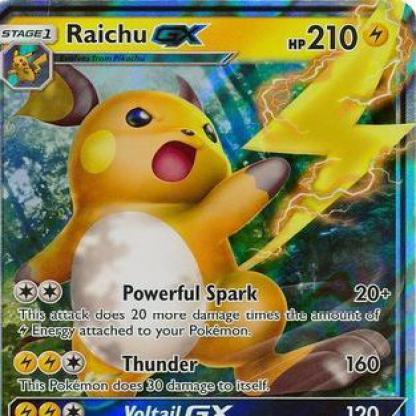Raichu: (1, 1, 416, 414)
